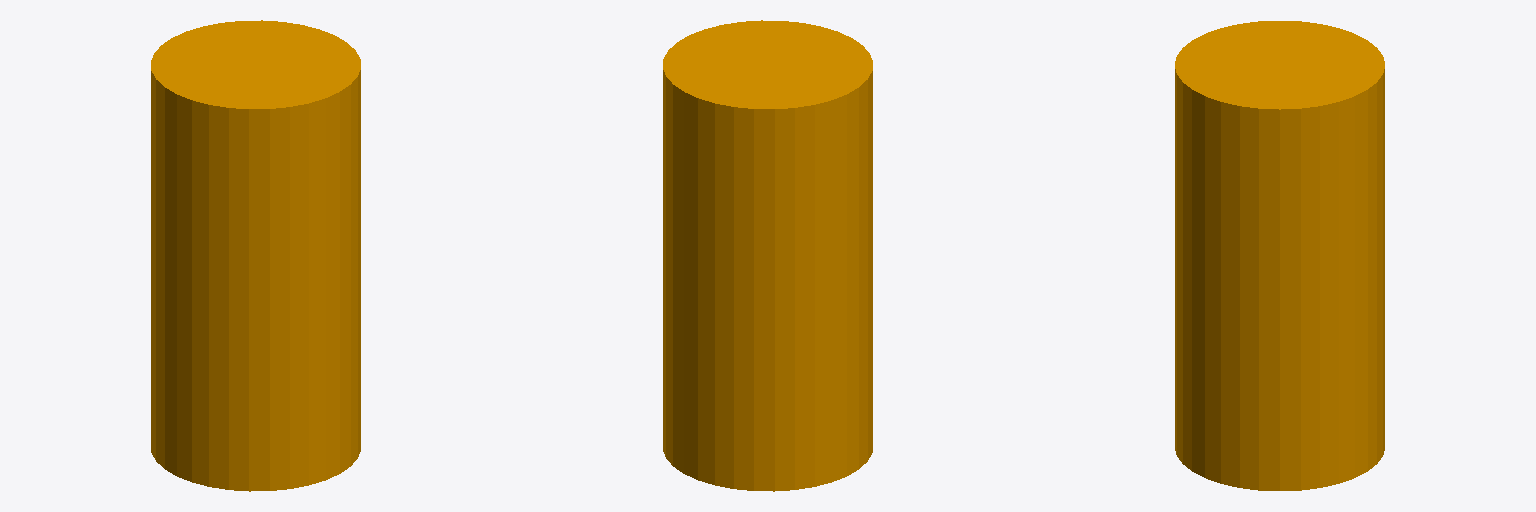
URDF robot description (blue_cylinder):
<?xml version='1.0'?>
<robot name='blue_cylinder'>

<link name="base_link">
  <collision>
    <origin xyz="0 0 0.1" rpy="0 0 0"/>
    <geometry>
      <cylinder length="0.2" radius="0.05"/>
    </geometry>
  </collision>

  <visual>
    <origin xyz="0 0 0.1" rpy="0 0 0"/>
    <geometry>
      <cylinder length="0.2" radius="0.05"/>
    </geometry>
  </visual>

  <inertial>
    <origin xyz="0 0 0.1" rpy="0 0 0"/>
    <mass value="1"/>
    <inertia
      ixx="0.0001" ixy="0.0" ixz="0.0"
      iyy="0.0001" iyz="0.0"
      izz="0.0001"/>
  </inertial>
</link>

<gazebo reference="base_link">
  <material>Gazebo/Blue</material>
</gazebo>

</robot>

--- Render facts (derived) ---
3 views of the same robot in one strip: view 1: azimuth 30°, elevation 25°; view 2: azimuth 150°, elevation 25°; view 3: azimuth 270°, elevation 25° (orthographic).
Robot: blue_cylinder — 1 links, 0 joints (none); root link base_link; default pose: every joint at zero.
Links seen in each view (by area): view 1: base_link; view 2: base_link; view 3: base_link.
Boxes of the visible links, x1,y1,x2,y2 form: base_link: (151,20,360,491); base_link: (663,20,872,491); base_link: (1175,21,1384,490).
Bounding box of the posed robot: 0.1 × 0.1 × 0.2 m (x, y, z).
Geometry: primitives only (box / cylinder / sphere), no mesh files.